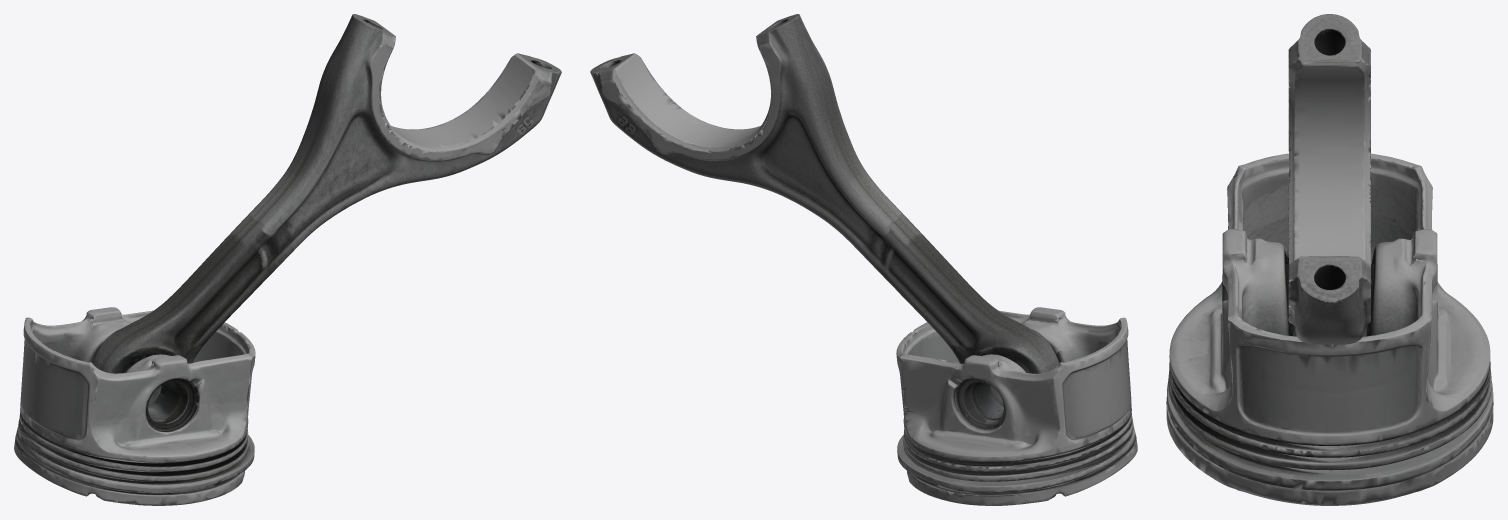
Rendered from asset06.glb.
The picture shows the model from 3 angles, left to right: view 1: azimuth 30°, elevation 25°; view 2: azimuth 150°, elevation 25°; view 3: azimuth 270°, elevation 25°; orthographic projection. The views are drawn at different scales.
Visible parts, largest first — view 1: asset06; view 2: asset06; view 3: asset06.
Boxes of the visible parts, x1,y1,x2,y2 form: asset06: (14,14,561,505); asset06: (590,14,1137,505); asset06: (1166,14,1493,505).
Bounding box in the file's own units: 0.25 × 0.1831 × 0.0932.
Materials: 1 (1 with a texture image).
